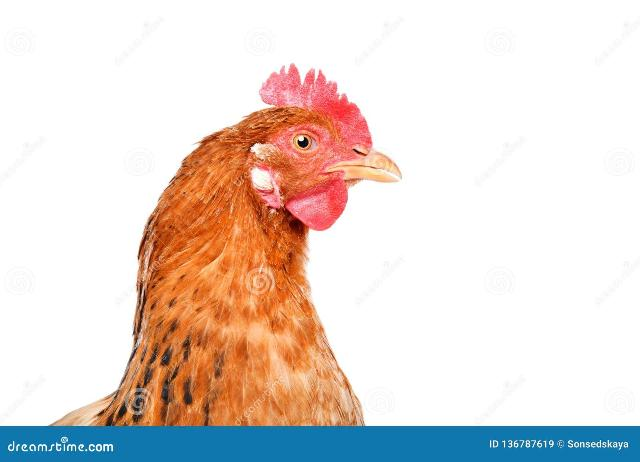Chicken: (49, 62, 402, 427)
